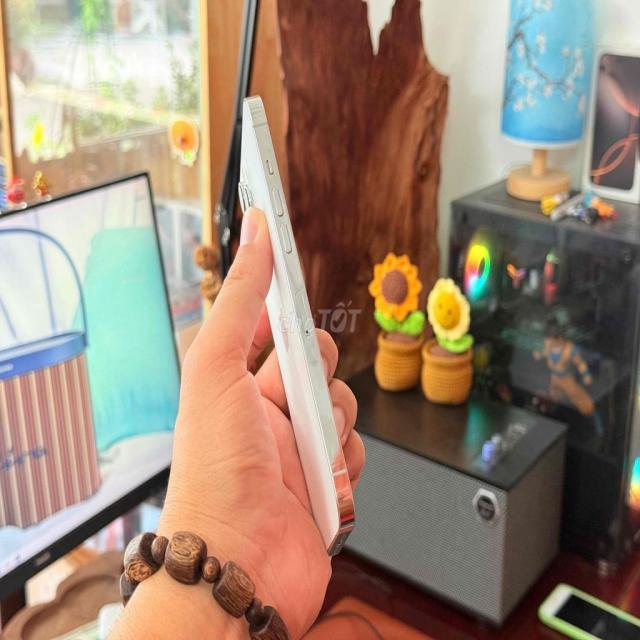gen_12_13: (231, 82, 368, 561)
